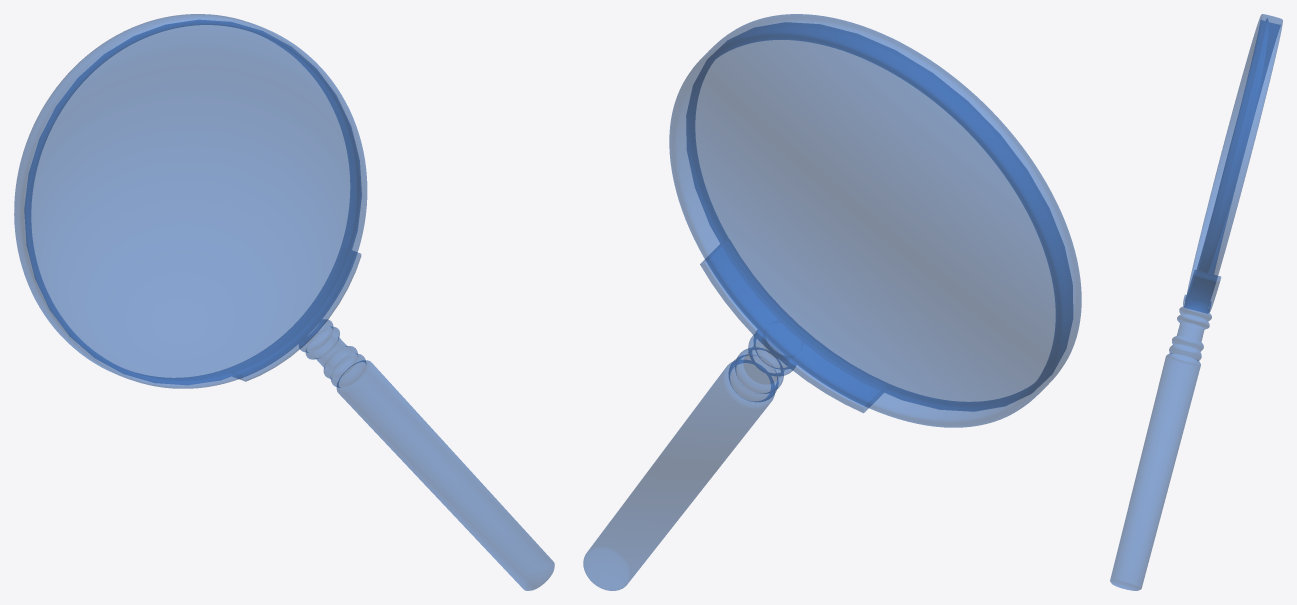
Rendered from lupa.glb.
3 renders of one model, left to right at view 1: azimuth 30°, elevation 25°; view 2: azimuth 150°, elevation 25°; view 3: azimuth 270°, elevation 25°, orthographic. The views are drawn at different scales.
Parts seen in each view (by area): view 1: Lupe; view 2: Lupe; view 3: Lupe.
Boxes of the visible parts, bbox=[...] form: Lupe: bbox=[14, 14, 554, 590]; Lupe: bbox=[583, 14, 1081, 590]; Lupe: bbox=[1110, 14, 1282, 590].
Size of the model in its own units: 1.17 by 1.4 by 0.4785.
